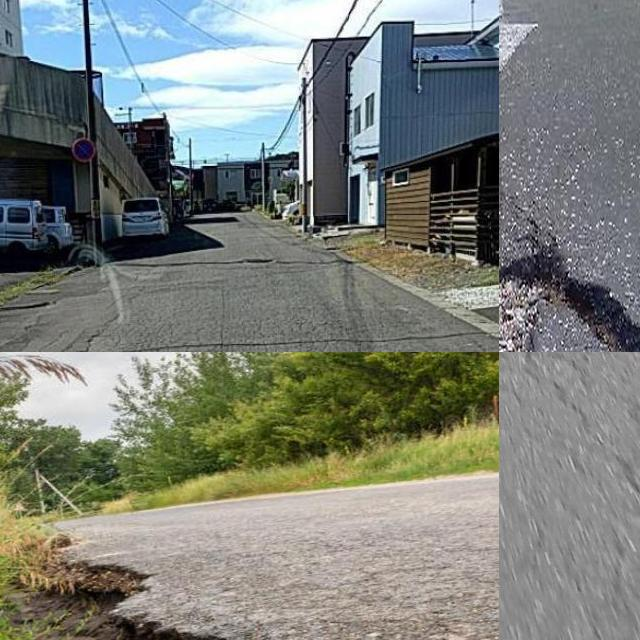Lubang: (499, 183, 640, 352)
